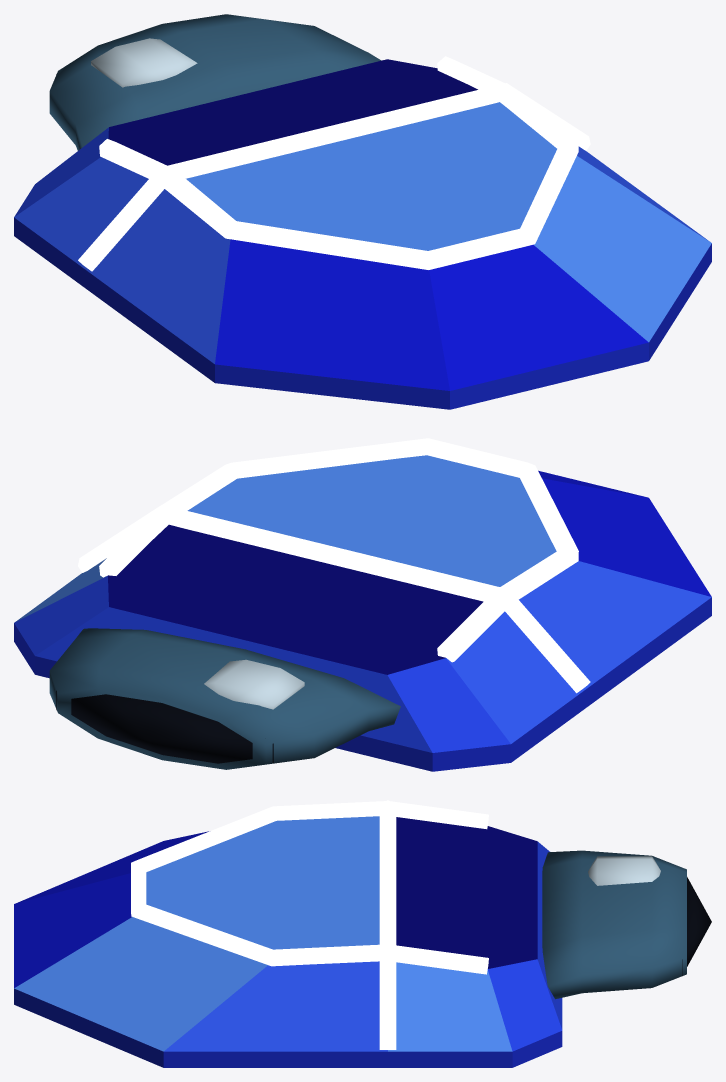
Rendered from newsh7-152.glb.
The picture shows the model from 3 angles, top to bottom: view 1: azimuth 30°, elevation 25°; view 2: azimuth 150°, elevation 25°; view 3: azimuth 270°, elevation 25°; orthographic projection. The views are drawn at different scales.
Visible parts, largest first — view 1: newsh7-152, newsh7-152_cap, newsh7-152_lines; view 2: newsh7-152, newsh7-152_cap, newsh7-152_lines; view 3: newsh7-152, newsh7-152_cap, newsh7-152_lines.
Boxes of the visible parts, x1,y1,x2,y2 form: newsh7-152: [14, 59, 711, 409]; newsh7-152_cap: [49, 14, 381, 150]; newsh7-152_lines: [78, 56, 590, 271]; newsh7-152: [14, 455, 711, 771]; newsh7-152_cap: [49, 628, 400, 769]; newsh7-152_lines: [78, 438, 590, 693]; newsh7-152: [14, 816, 562, 1067]; newsh7-152_cap: [542, 850, 711, 999]; newsh7-152_lines: [131, 800, 488, 1049].
Size of the model in its own units: 0.8542 by 0.311 by 1.17.
